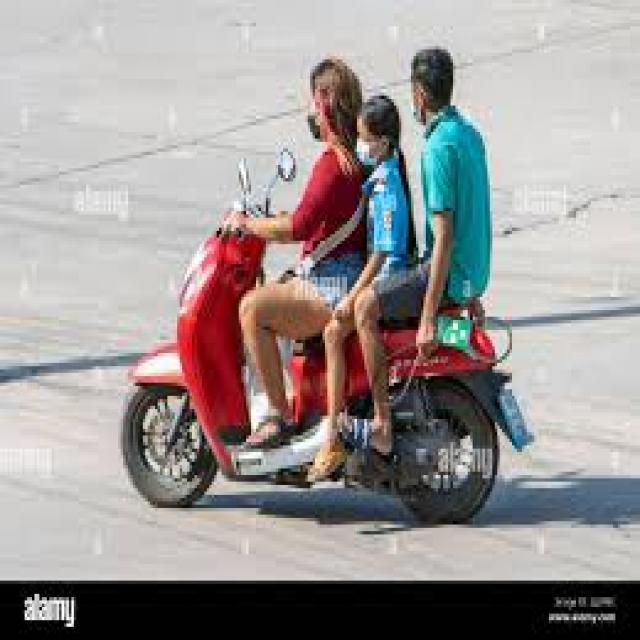Triple Riding: (200, 35, 478, 486)
